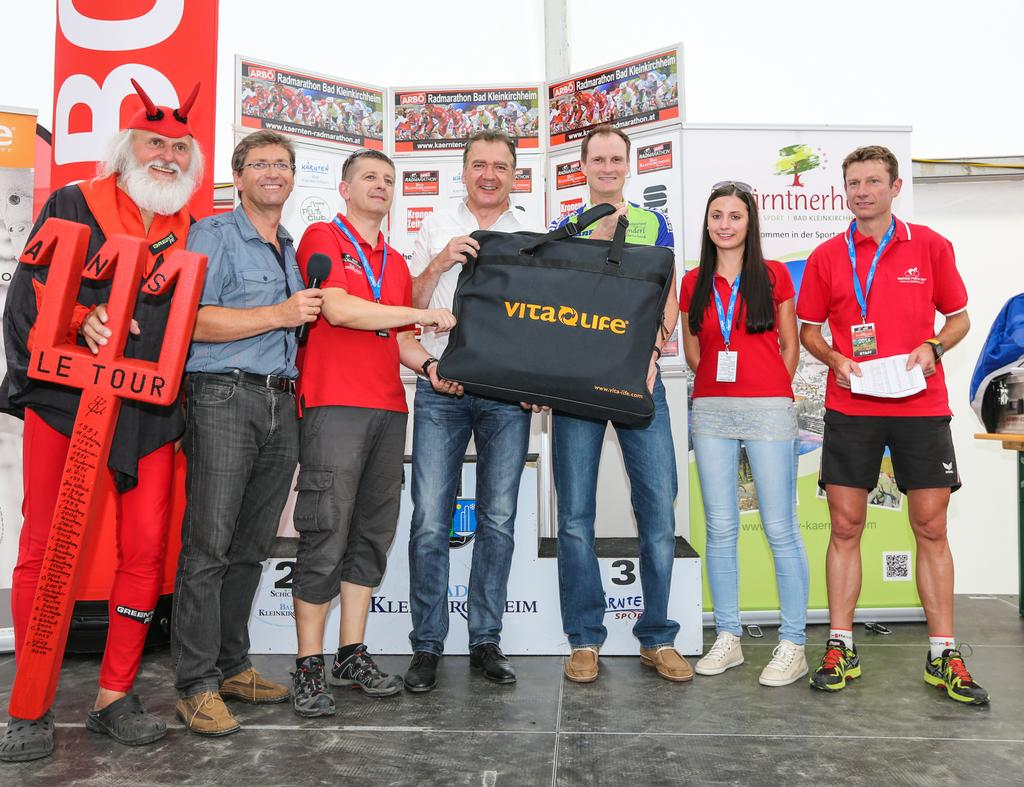Luggage-and-bags: (404, 214, 694, 438)
